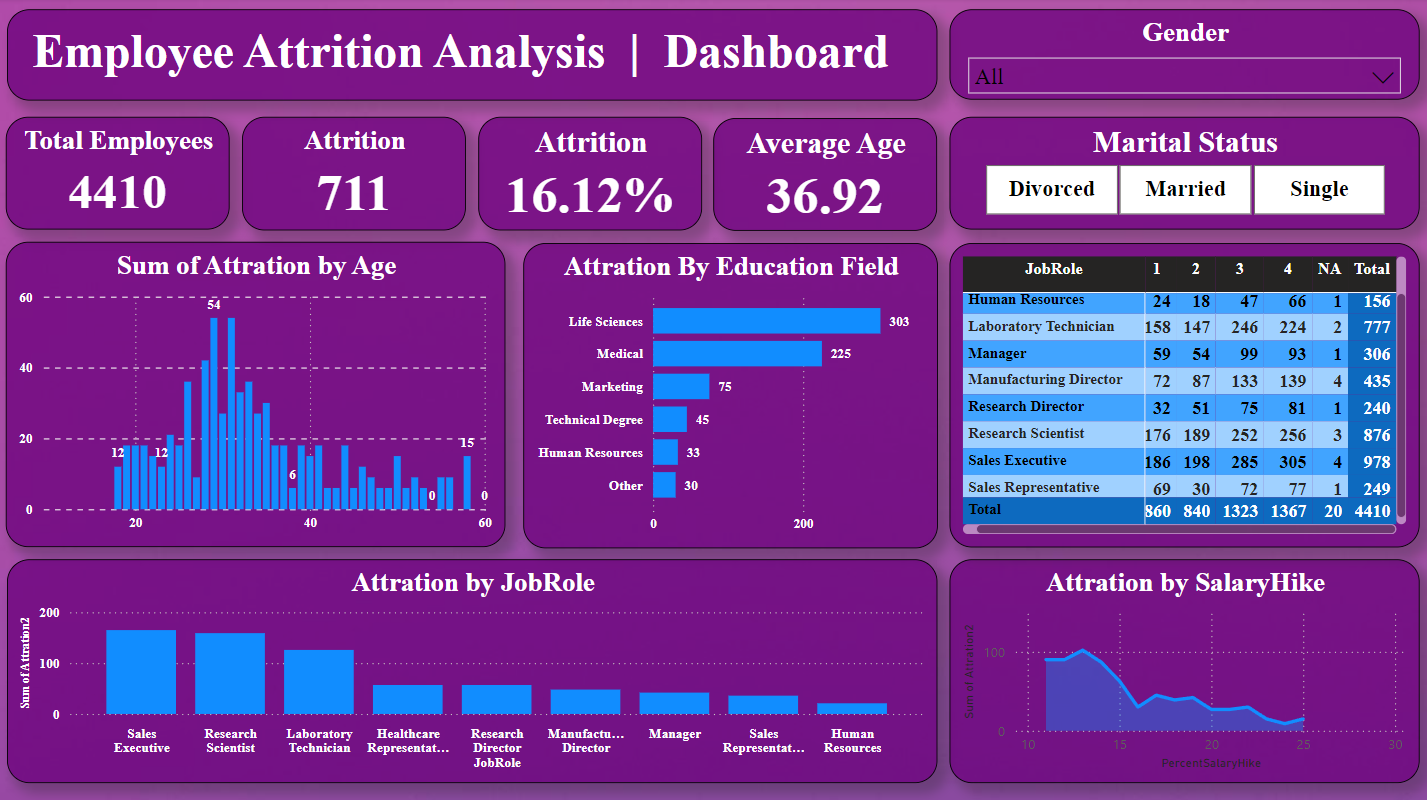

The page's visual inventory and layout, read from the dashboard file:
{"tool":"powerbi","page":{"name":"Page 1","canvas":[1280,720],"ordinal":0},"visuals":[{"type":"card","title":"Total Employees","fields":{"Values":["Sum(Attrition data.EmployeeCount)"]},"box":[8.1,105.8,200,101.2],"z":0},{"type":"card","title":"Attrition","fields":{"Values":["Sum(Attrition data.Attration2)"]},"box":[218.6,105.7,200,101.4],"z":1000},{"type":"card","title":"Attrition","fields":{"Values":["Attrition data.Attrition Percentage"]},"box":[430,105.7,200,101.4],"z":2000},{"type":"card","title":"Average Age","fields":{"Values":["Avg(Attrition data.Age)"]},"box":[640,106.7,200,101.1],"z":3000},{"type":"clusteredBarChart","title":"Attration By Education Field","fields":{"Category":["Attrition data.EducationField"],"Y":["Sum(Attrition data.Attration2)"]},"box":[470,218.6,370,272.9],"z":4000},{"type":"columnChart","title":"Sum of Attration by Age","fields":{"Category":["Attrition data.Age"],"Y":["Sum(Attrition data.Attration2)"]},"box":[8.2,218.2,446.5,272.9],"z":5000},{"type":"textbox","box":[8.6,10,831.4,81.4],"z":6000},{"type":"columnChart","title":"Attration by JobRole","fields":{"Y":["Sum(Attrition data.Attration2)"],"Category":["Attrition data.JobRole"]},"box":[8.9,501.1,831.1,200],"z":7000},{"type":"areaChart","title":"Attration by SalaryHike","fields":{"Category":["Attrition data.PercentSalaryHike"],"Y":["Sum(Attrition data.Attration2)"]},"box":[851.1,501.1,420,200],"z":8000},{"type":"pivotTable","fields":{"Rows":["Attrition data.JobRole"],"Columns":["Attrition data.JobSatisfaction"],"Values":["Sum(Attrition data.EmployeeCount)"]},"box":[851.1,218.9,420,272.2],"z":9000},{"type":"slicer","title":"Gender","fields":{"Values":["Attrition data.Gender"]},"box":[851.1,10,420,81.1],"z":10000},{"type":"slicer","title":"Marital Status","fields":{"Values":["Attrition data.MaritalStatus"]},"box":[851.1,105.6,420,101.1],"z":11000}]}

Visuals, with their boxes in screenshot pixels (x1, y1, x2, y2), scaled from the page's 1280x720 canvas onto the 1427x800 screenshot:
"Total Employees" card: crop(9, 118, 232, 230)
"Attrition" card: crop(244, 117, 467, 230)
"Attrition" card: crop(479, 117, 702, 230)
"Average Age" card: crop(714, 119, 936, 231)
"Attration By Education Field" clusteredBarChart: crop(524, 243, 936, 546)
"Sum of Attration by Age" columnChart: crop(9, 242, 507, 546)
textbox: crop(10, 11, 936, 102)
"Attration by JobRole" columnChart: crop(10, 557, 936, 779)
"Attration by SalaryHike" areaChart: crop(949, 557, 1417, 779)
pivotTable - Attrition data.JobRole x Attrition data.JobSatisfaction: crop(949, 243, 1417, 546)
"Gender" slicer: crop(949, 11, 1417, 101)
"Marital Status" slicer: crop(949, 117, 1417, 230)
